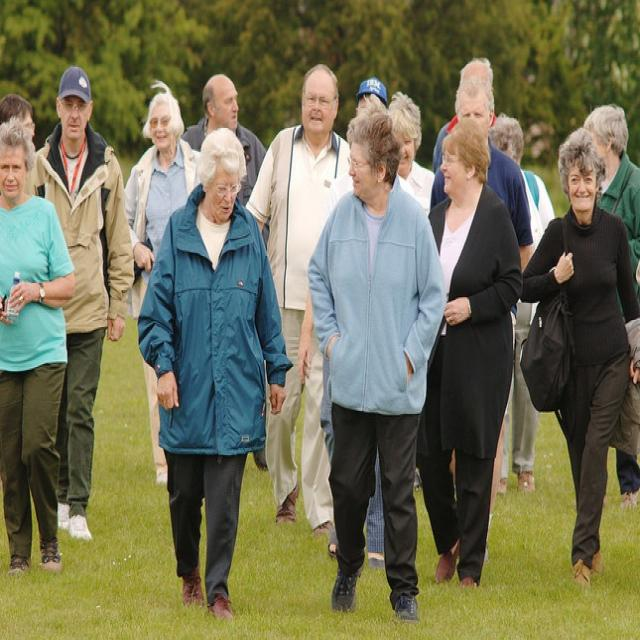body: (132, 122, 296, 630), (302, 107, 452, 630), (517, 124, 639, 592), (426, 72, 536, 569), (242, 61, 355, 541), (29, 63, 136, 546), (417, 116, 525, 588), (178, 71, 276, 477), (120, 74, 210, 491), (0, 115, 76, 578), (485, 110, 559, 497), (578, 99, 640, 515), (321, 326, 403, 572), (433, 55, 499, 175), (386, 91, 437, 219), (0, 92, 39, 146), (354, 76, 388, 116)
